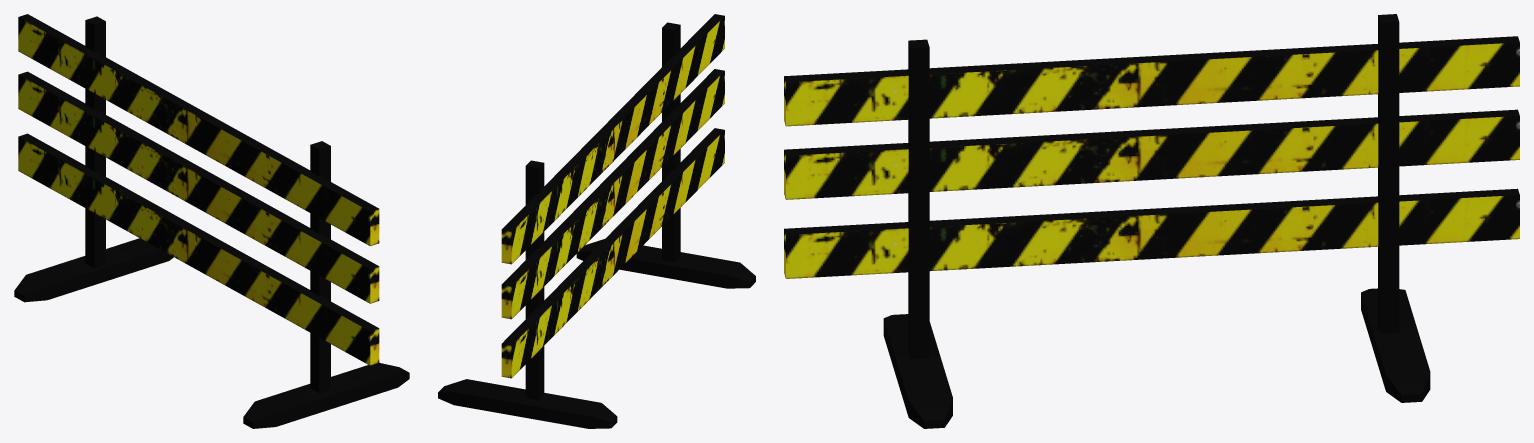
Rendered from road barrier2.FBX.
The picture shows the model from 3 angles, left to right: view 1: azimuth 30°, elevation 25°; view 2: azimuth 150°, elevation 25°; view 3: azimuth 270°, elevation 25°; orthographic projection. The views are drawn at different scales.
Visible parts, largest first — view 1: Box002; view 2: Box002; view 3: Box002.
Part boxes in pixels (x1,y1,x2,y2): Box002: (14, 14, 409, 428); Box002: (438, 14, 755, 428); Box002: (784, 14, 1519, 428).
Size of the model in its own units: 14.82 by 17.14 by 34.8.
